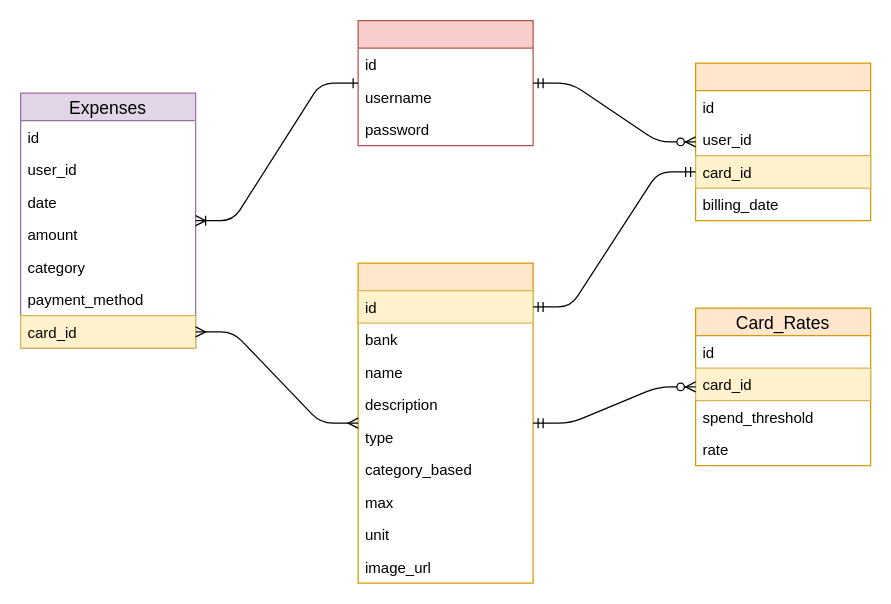
Image size: 891x604. Some labels were removed from this diagram. The box of each missing label's shape, as (x1, y1, x2, y2) in pixels:
Card_Owners: (694, 62, 871, 221)
Cards: (357, 262, 533, 583)
Users: (357, 19, 533, 146)
